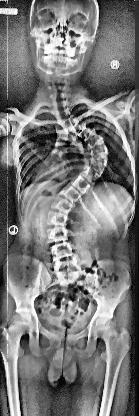Vertebrae: (47, 242, 75, 260), (48, 198, 78, 212), (46, 227, 73, 241), (45, 212, 71, 226), (77, 168, 101, 182), (58, 185, 82, 199), (86, 156, 110, 168), (70, 178, 94, 190), (88, 146, 110, 158), (84, 162, 105, 174), (72, 128, 92, 138), (84, 130, 100, 142), (66, 121, 84, 131), (87, 138, 105, 148), (51, 100, 68, 110), (58, 115, 76, 124), (54, 109, 70, 119)
